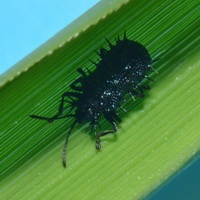insect: (30, 31, 152, 166)
